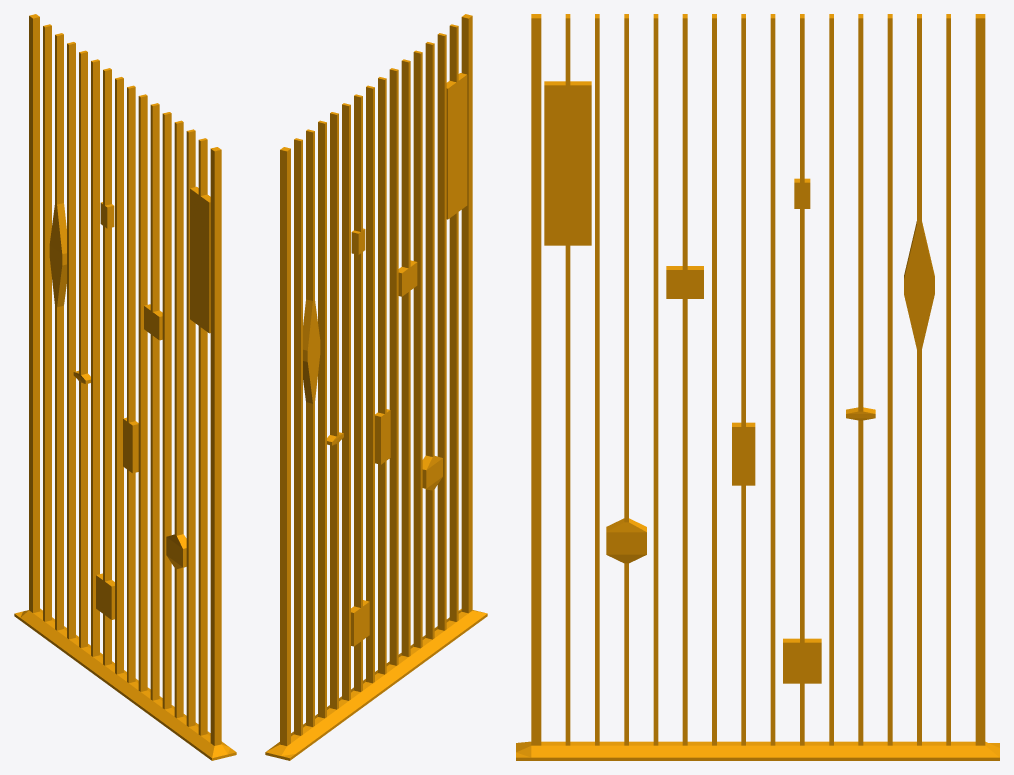
File: vertical grid pour la déco.fbx
The picture shows the model from 3 angles, left to right: view 1: azimuth 30°, elevation 25°; view 2: azimuth 150°, elevation 25°; view 3: azimuth 270°, elevation 25°; orthographic projection. The views are drawn at different scales.
Parts seen in each view (by area): view 1: Box001; view 2: Box001; view 3: Box001.
Part boxes in pixels (x1,y1,x2,y2): Box001: [14, 14, 236, 760]; Box001: [265, 14, 487, 760]; Box001: [516, 14, 999, 760].
Size of the model in its own units: 4.81 by 113 by 67.03.
